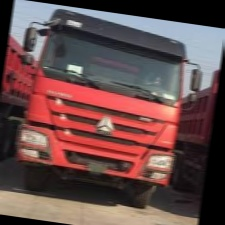truck: (10, 7, 209, 215)
